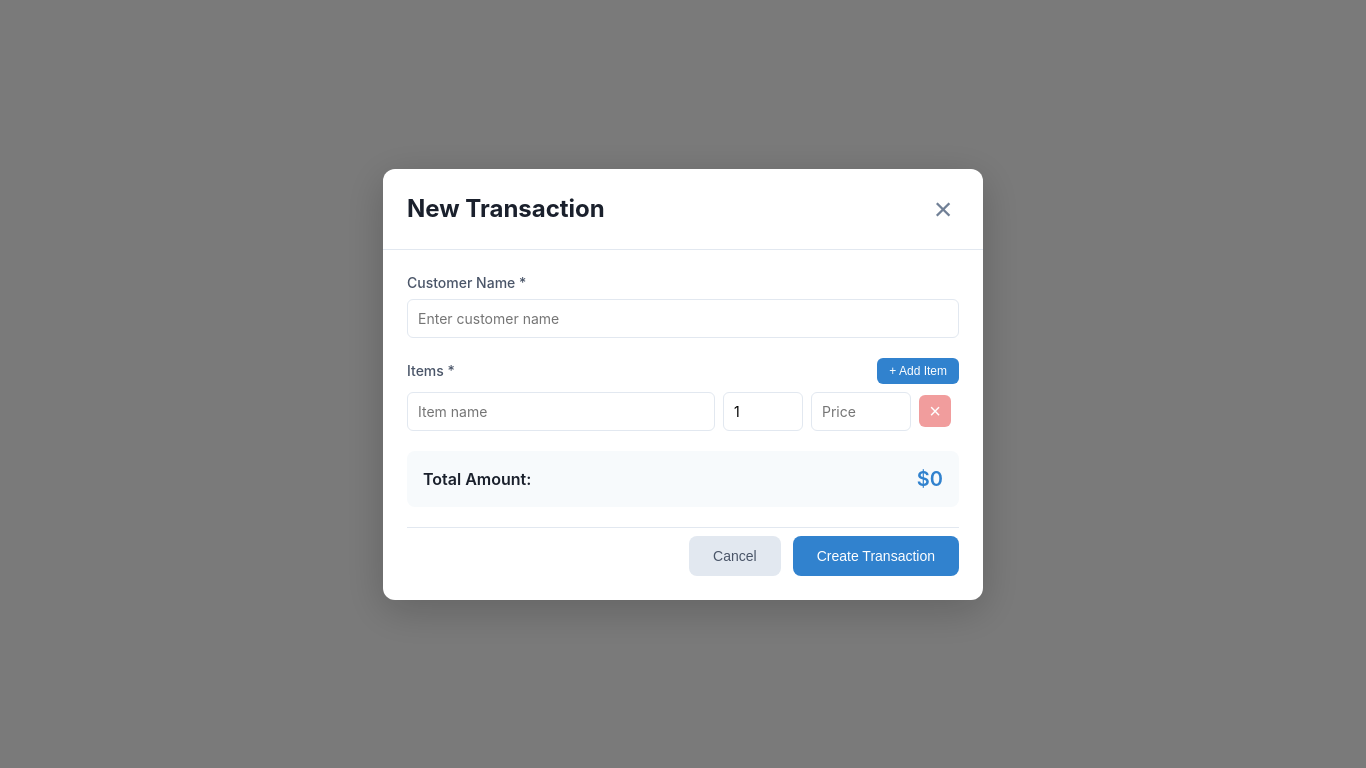
Test case: TransactionForm Component › should calculate total amount correctly
In the field with placeholder "Item name": (561, 411) [407,392,715,430], type "Test Item"
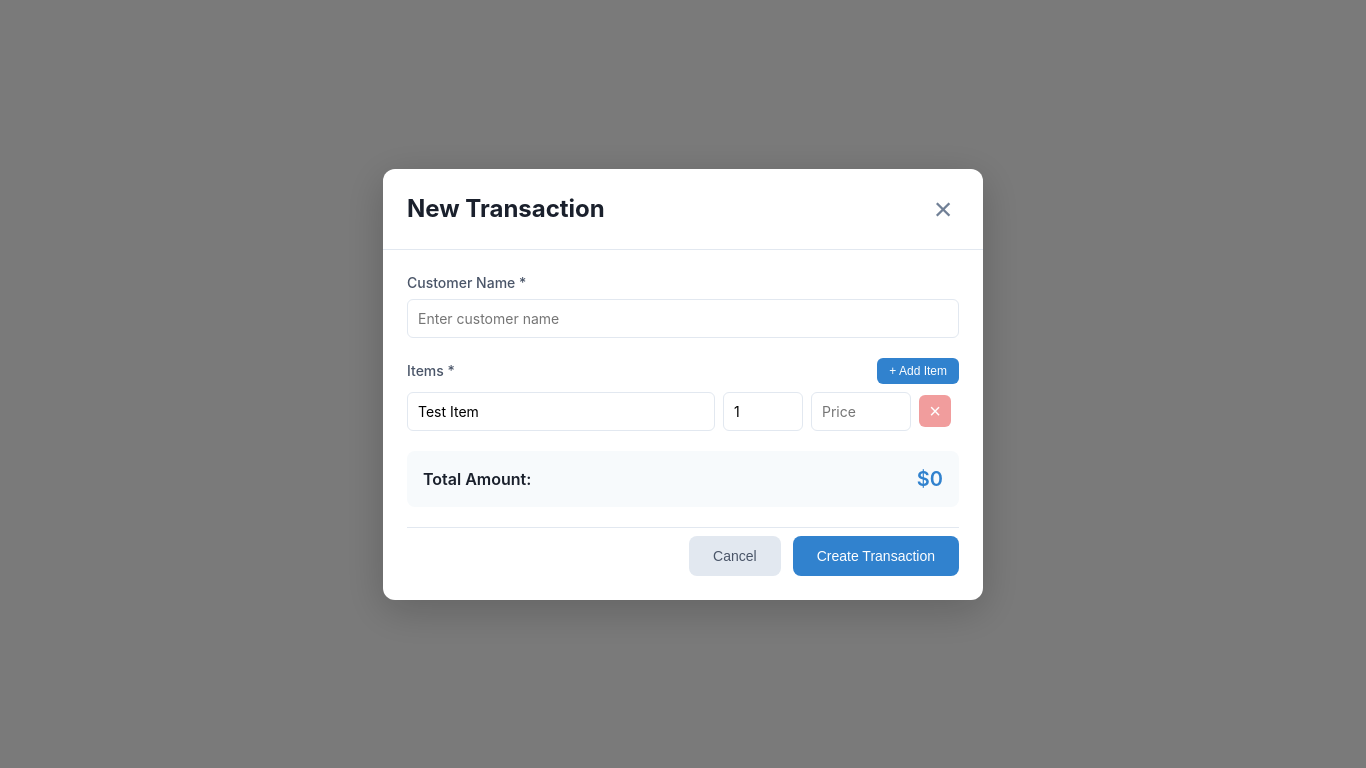
Replace the text in the number field with placeholder "Qty" with "2": (763, 411) [723,392,803,430]
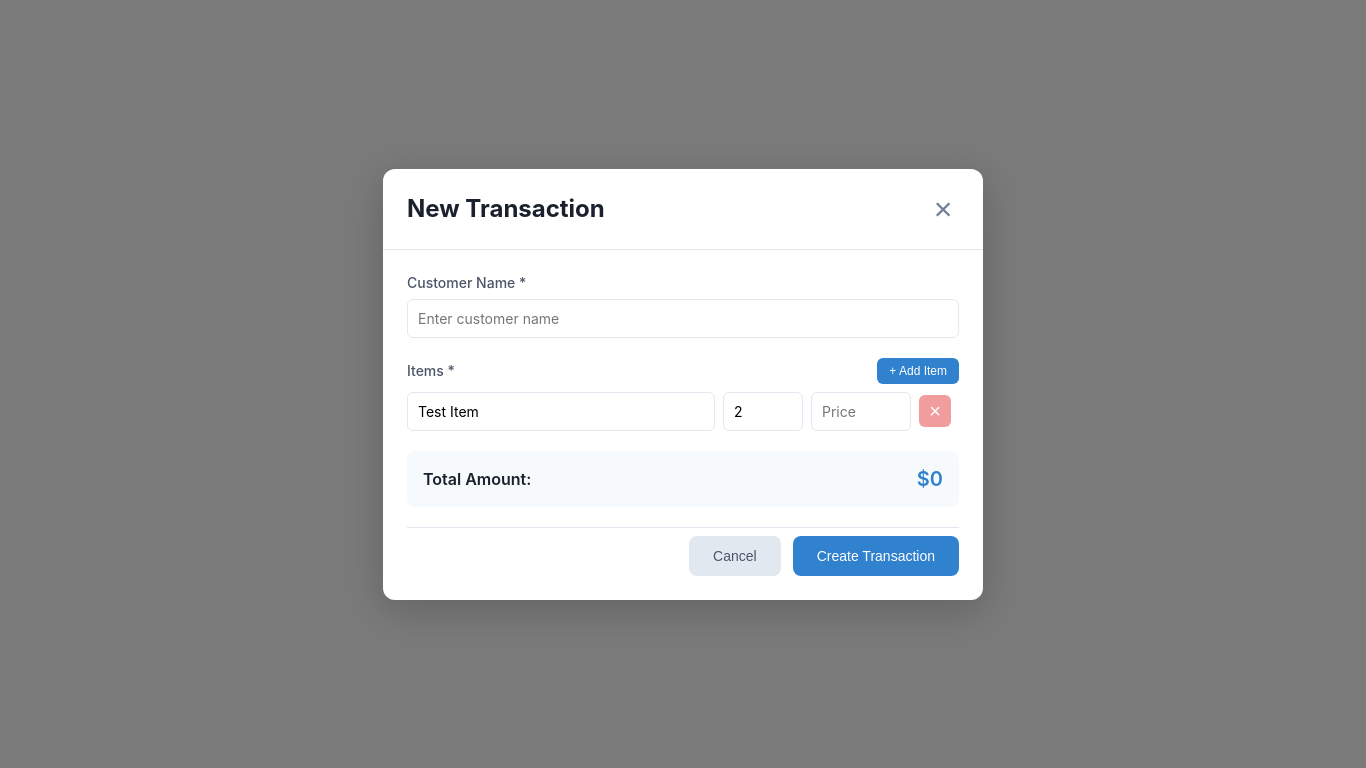
In the number field with placeholder "Price": (861, 411) [811,392,911,430], type "50"
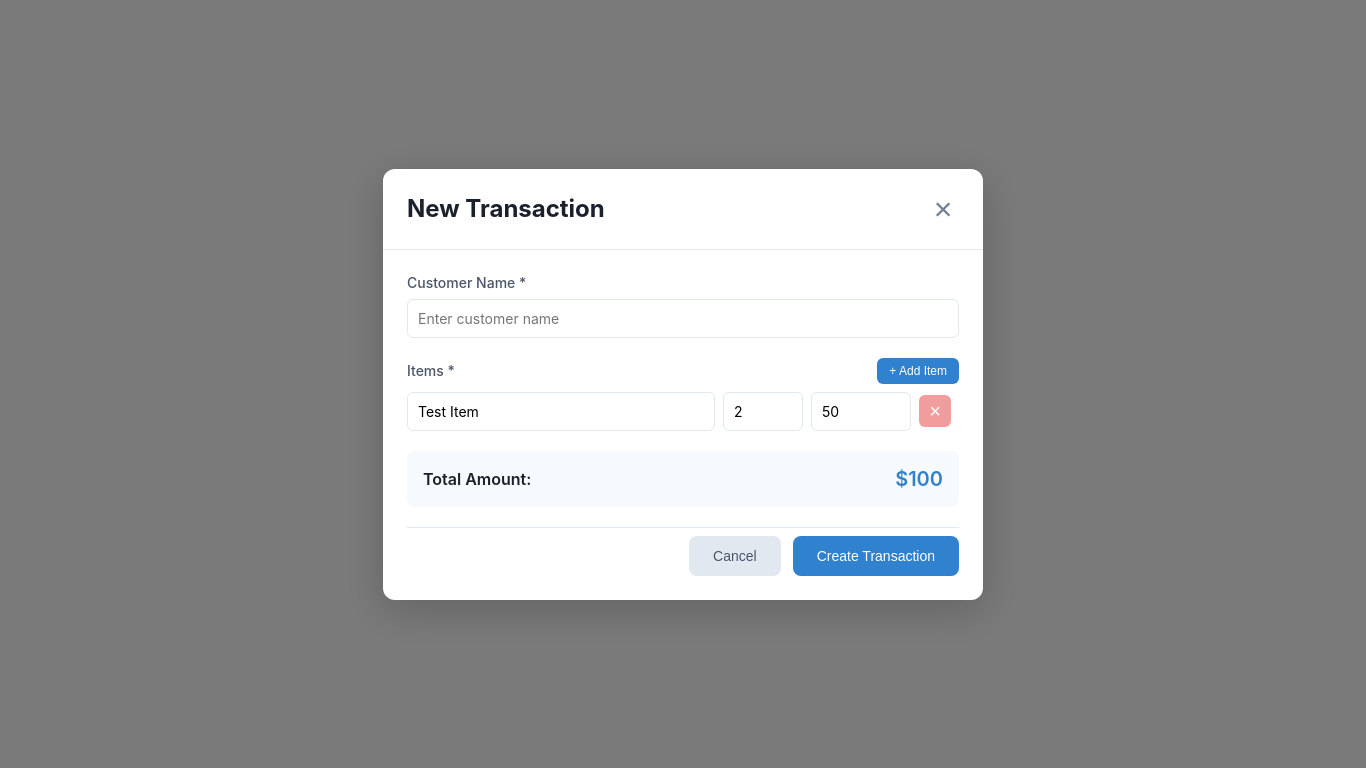
Now the text "$100" is shown, box [895,466,943,490]
